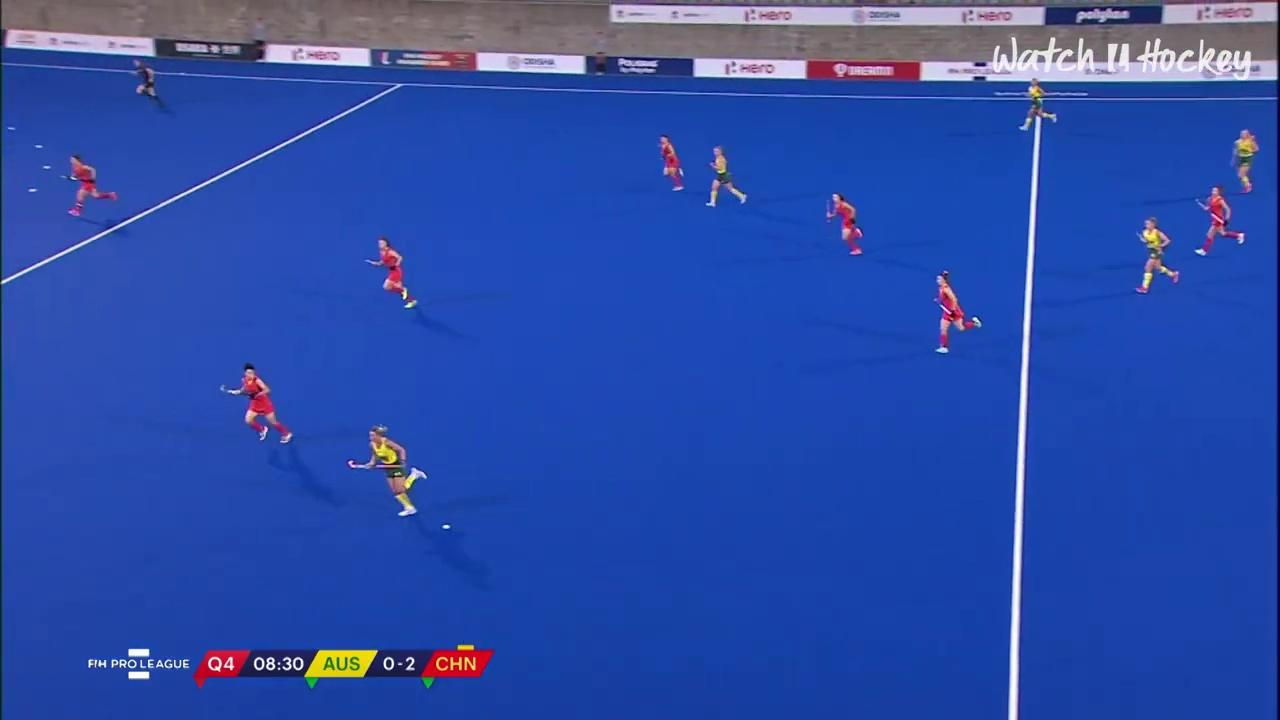ball: (435, 515, 461, 536)
